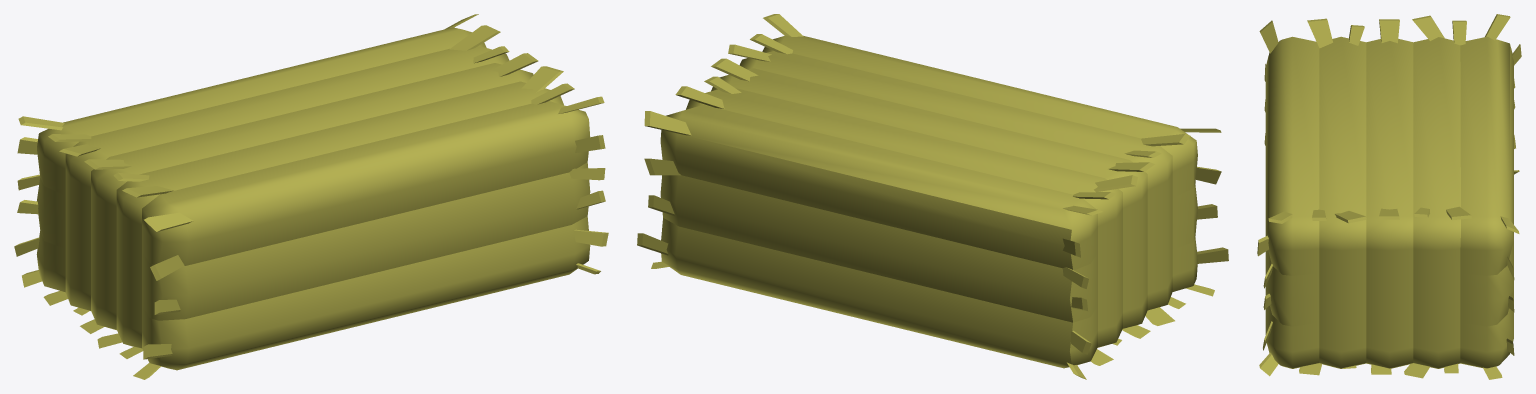
The model's file is SM_Hay_Straw.fbx.
3 views of the same model, side by side, from view 1: azimuth 30°, elevation 25°; view 2: azimuth 150°, elevation 25°; view 3: azimuth 270°, elevation 25° (orthographic). The views are drawn at different scales.
Parts seen in each view (by area): view 1: SM_Hay_Straw; view 2: SM_Hay_Straw; view 3: SM_Hay_Straw.
Part boxes in pixels (bbox=[...]): SM_Hay_Straw: bbox=[14, 14, 608, 379]; SM_Hay_Straw: bbox=[637, 14, 1228, 379]; SM_Hay_Straw: bbox=[1257, 14, 1521, 379].
Bounding box in the file's own units: 338 × 118 × 177.
